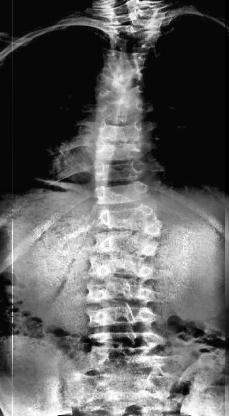Vertebrae: (87, 327, 161, 359), (84, 279, 160, 305), (88, 254, 158, 282), (84, 304, 158, 330), (92, 177, 154, 208), (96, 202, 161, 230), (98, 228, 160, 256), (88, 158, 154, 184), (92, 116, 150, 144), (90, 139, 148, 163), (94, 78, 144, 104), (93, 98, 151, 120), (93, 65, 147, 87), (108, 30, 160, 52), (102, 46, 148, 66)
